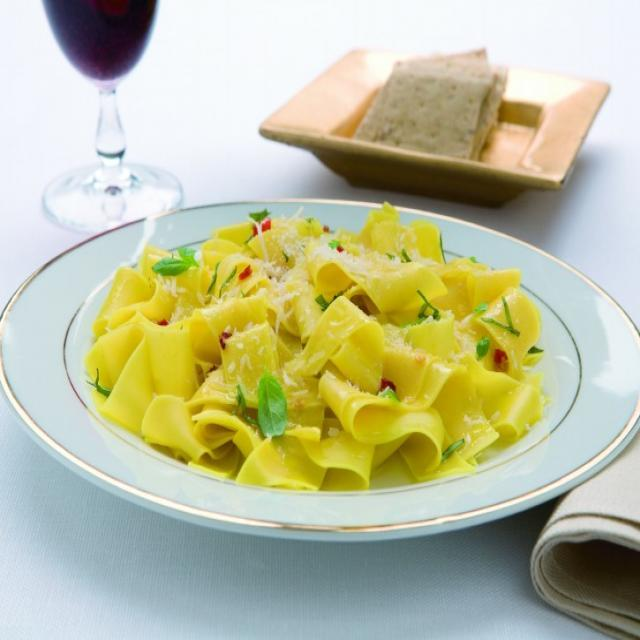Oil pasta: (48, 205, 624, 563)
